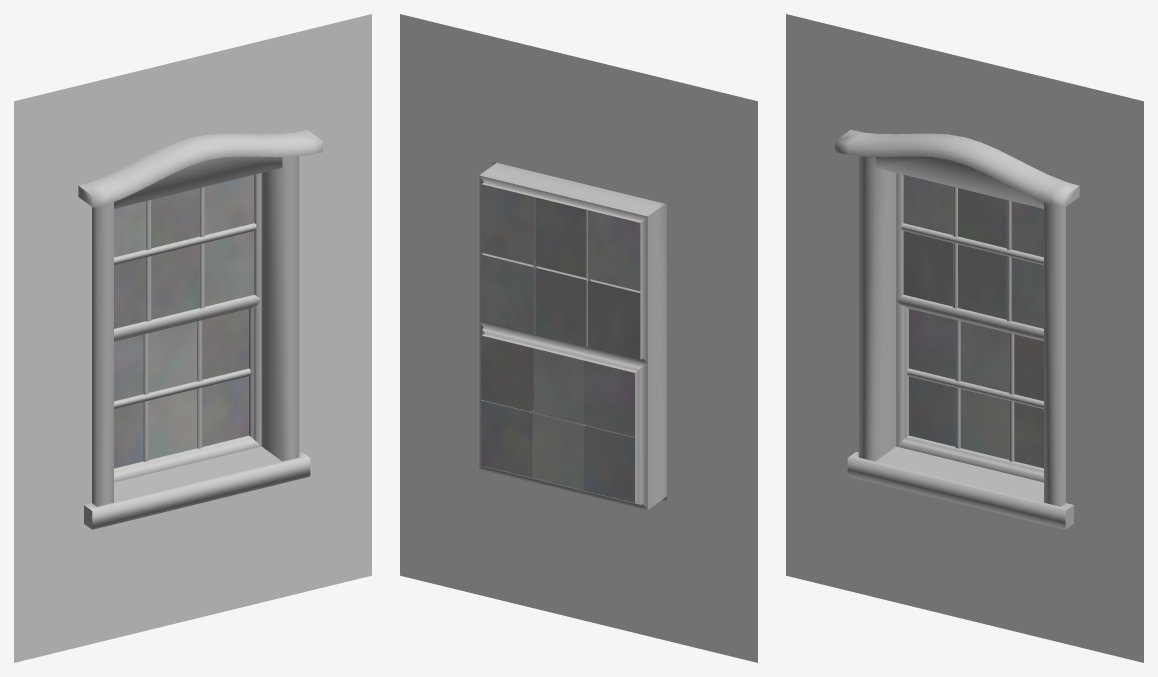
File: Window_08.fbx
3 renders of one model, left to right at view 1: azimuth 30°, elevation 25°; view 2: azimuth 150°, elevation 25°; view 3: azimuth 330°, elevation 25°, orthographic.
Parts seen in each view (by area): view 1: Window_08; view 2: Window_08; view 3: Window_08.
Boxes of the visible parts, x1,y1,x2,y2 form: Window_08: (14, 14, 371, 662); Window_08: (400, 14, 757, 662); Window_08: (786, 14, 1143, 662).
Bounding box in the file's own units: 2 × 3 × 0.3454.
